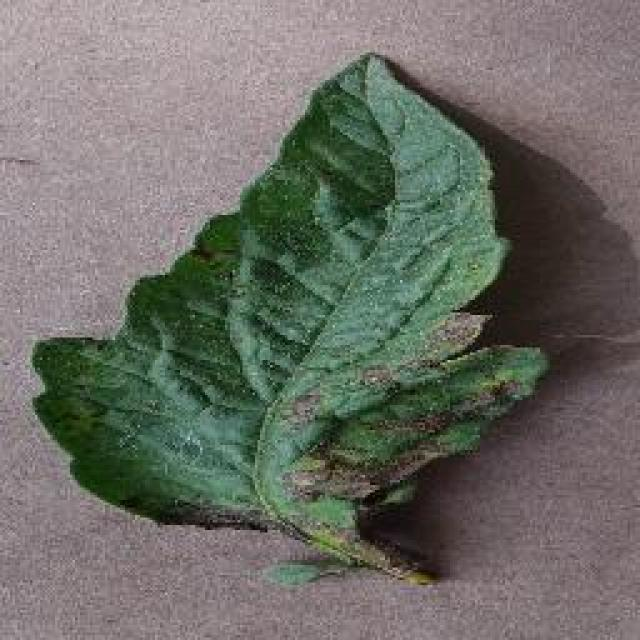Tomato Early blight leaf: (37, 49, 555, 598)
